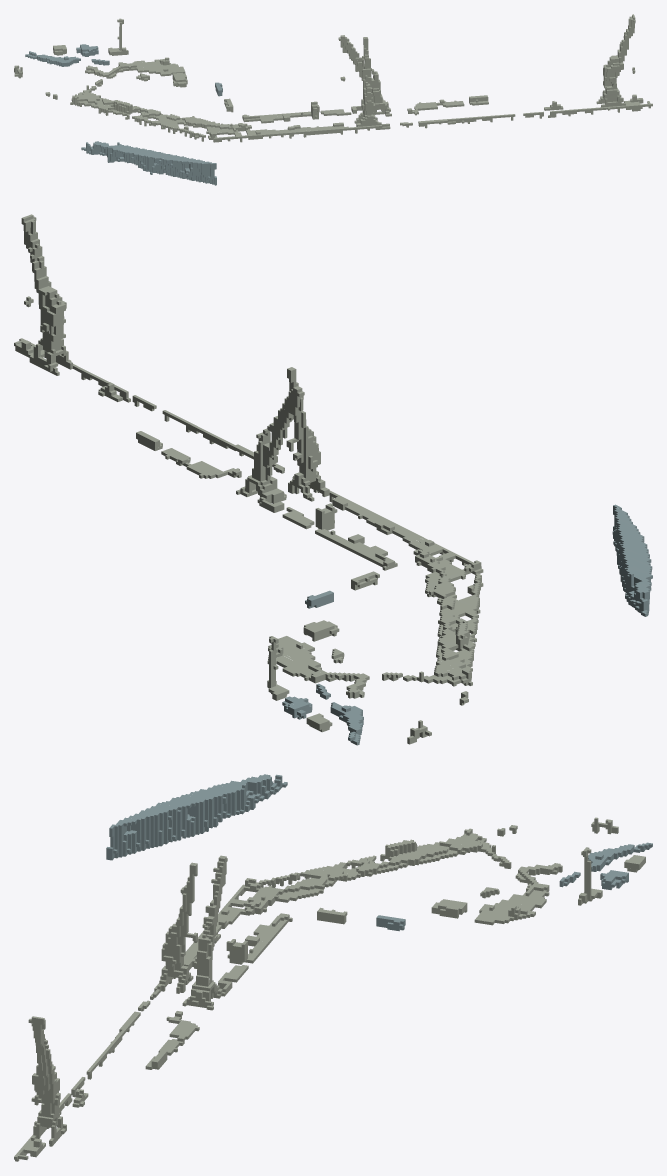
3 renders of one model, top to bottom at view 1: azimuth 30°, elevation 25°; view 2: azimuth 150°, elevation 25°; view 3: azimuth 270°, elevation 25°, orthographic. The views are drawn at different scales.
Visible parts, largest first — view 1: measured-industrial; view 2: measured-industrial; view 3: measured-industrial.
Boxes of the visible parts, <box> form: measured-industrial: <box>14,14,652,185</box>; measured-industrial: <box>14,214,652,745</box>; measured-industrial: <box>14,774,652,1161</box>.
Bounding box in the file's own units: 401 × 72.2 × 300.
